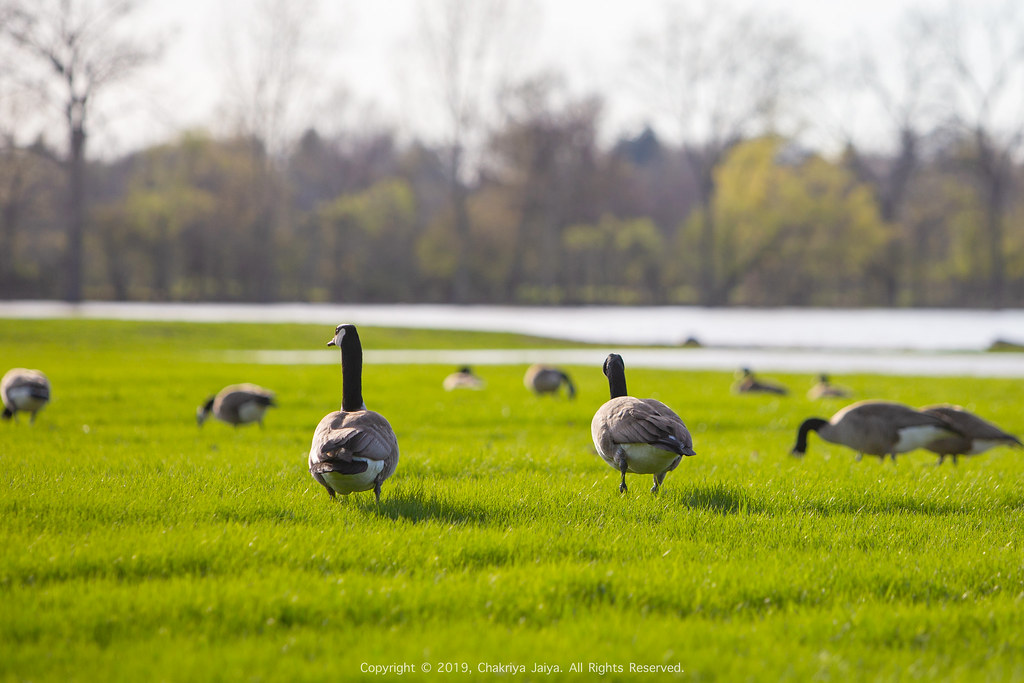goose: (304, 322, 405, 511), (591, 353, 698, 498), (192, 382, 278, 434), (2, 369, 56, 426)
